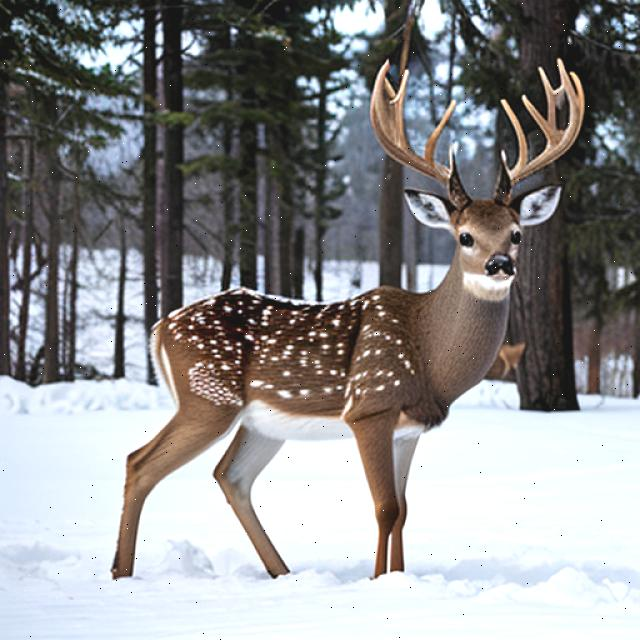deer: (130, 47, 592, 536)
